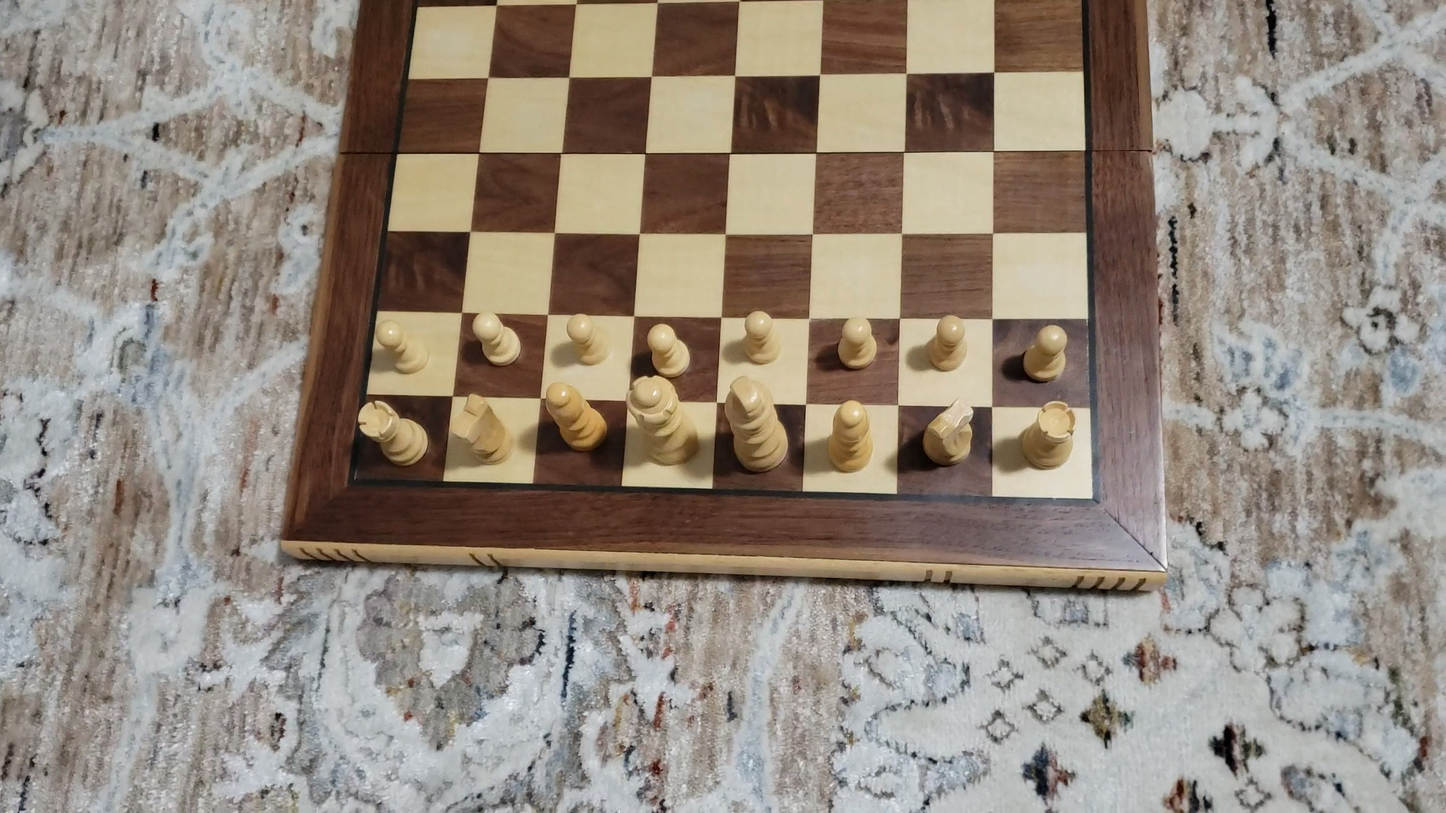white-bishop: (539, 381, 609, 454), (824, 396, 878, 477)
white-king: (719, 374, 790, 477)
white-knight: (448, 391, 515, 469), (918, 394, 977, 470)
white-pawn: (1015, 319, 1075, 388), (372, 317, 433, 378), (922, 308, 971, 375), (736, 304, 785, 369), (469, 309, 522, 369), (833, 312, 882, 373), (644, 320, 692, 378), (563, 309, 610, 368)
white-queen: (624, 375, 704, 469)
white-rook: (357, 398, 429, 468), (1017, 397, 1079, 474)
